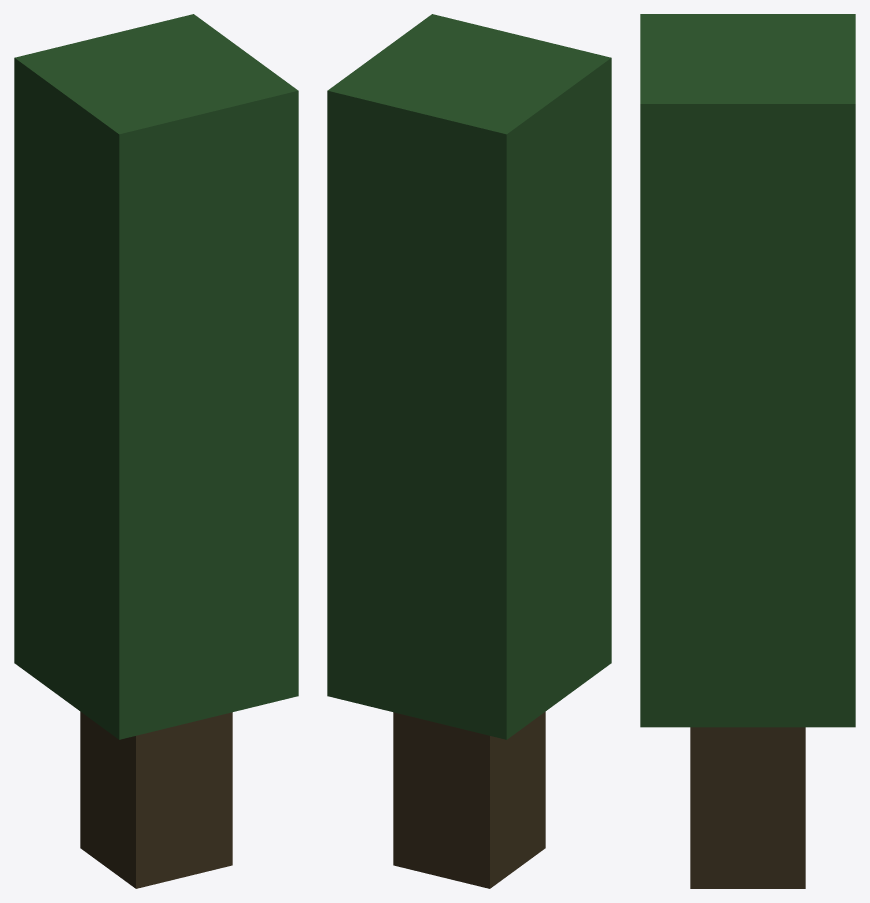
Rendered from tree3.gltf.
The picture shows the model from 3 angles, left to right: view 1: azimuth 30°, elevation 25°; view 2: azimuth 150°, elevation 25°; view 3: azimuth 270°, elevation 25°; orthographic projection. The views are drawn at different scales.
Parts seen in each view (by area): view 1: Tree3; view 2: Tree3; view 3: Tree3.
Part boxes in pixels (bbox=[...]): Tree3: bbox=[14, 14, 298, 888]; Tree3: bbox=[327, 14, 611, 888]; Tree3: bbox=[640, 14, 855, 888].
Size of the model in its own units: 9.92 by 41.39 by 10.04.
